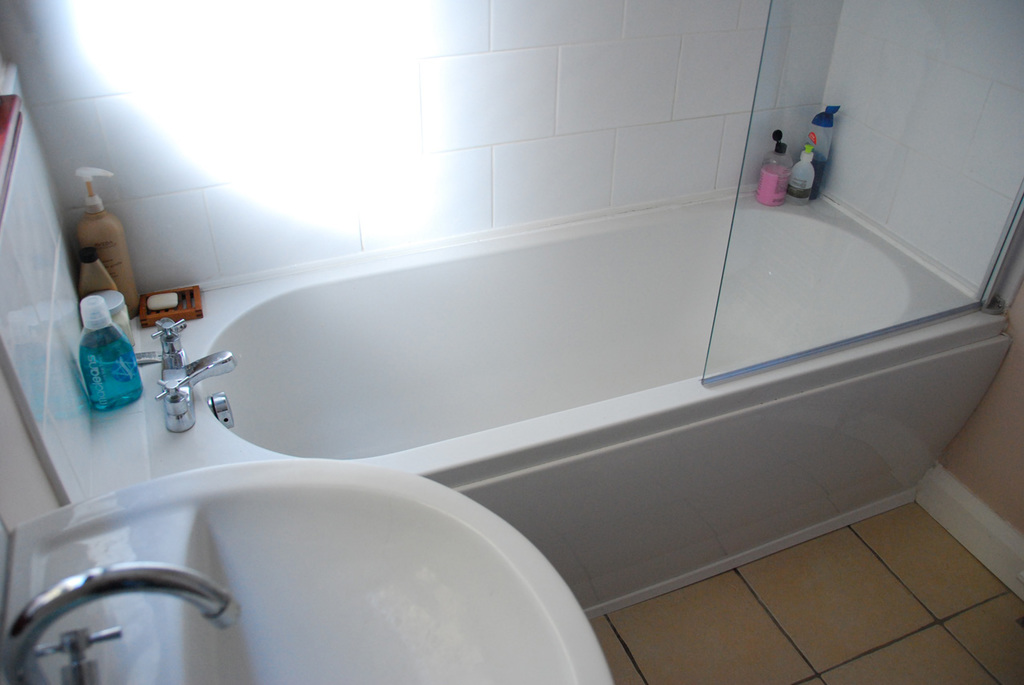tap: (0, 560, 245, 680), (148, 309, 243, 436)
